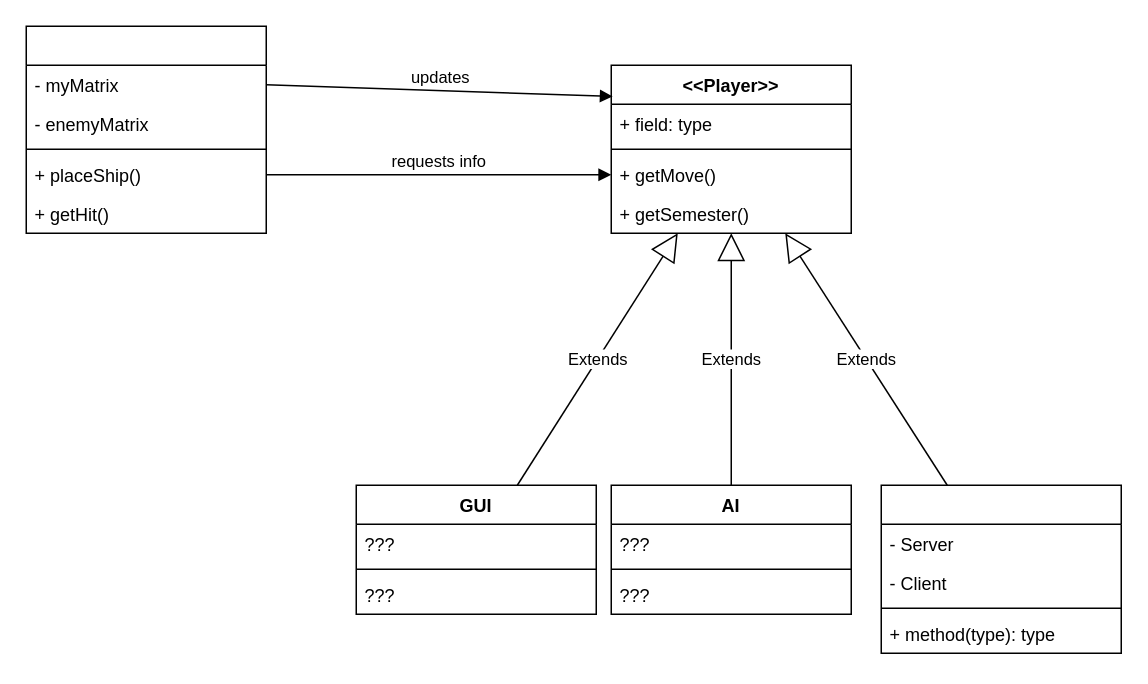
This 1148x684 diagram has some shape labels left out. The shapes that lost their labels are listed below. From the top down, each one's box as (x1, y1, x2, y2) in pixels, then its label:
(25, 25, 266, 233): Logic
(880, 484, 1121, 653): Network
